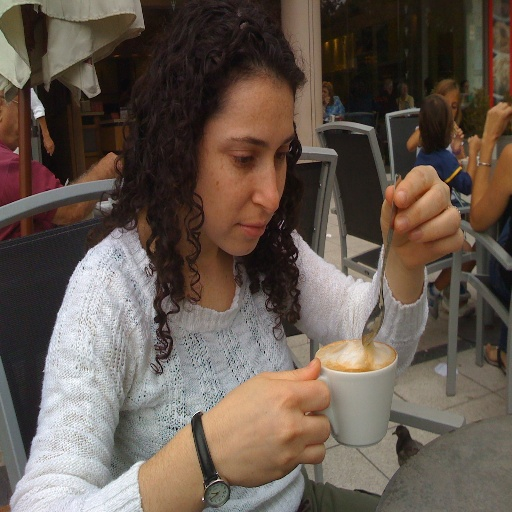hand: (203, 355, 331, 487), (383, 157, 469, 276), (483, 100, 511, 144), (97, 151, 123, 180), (449, 121, 464, 153), (467, 134, 482, 158), (41, 136, 55, 158)
